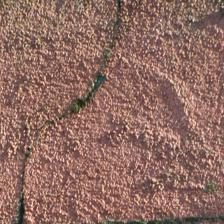Crack: (0, 12, 61, 134), (0, 32, 75, 95)
